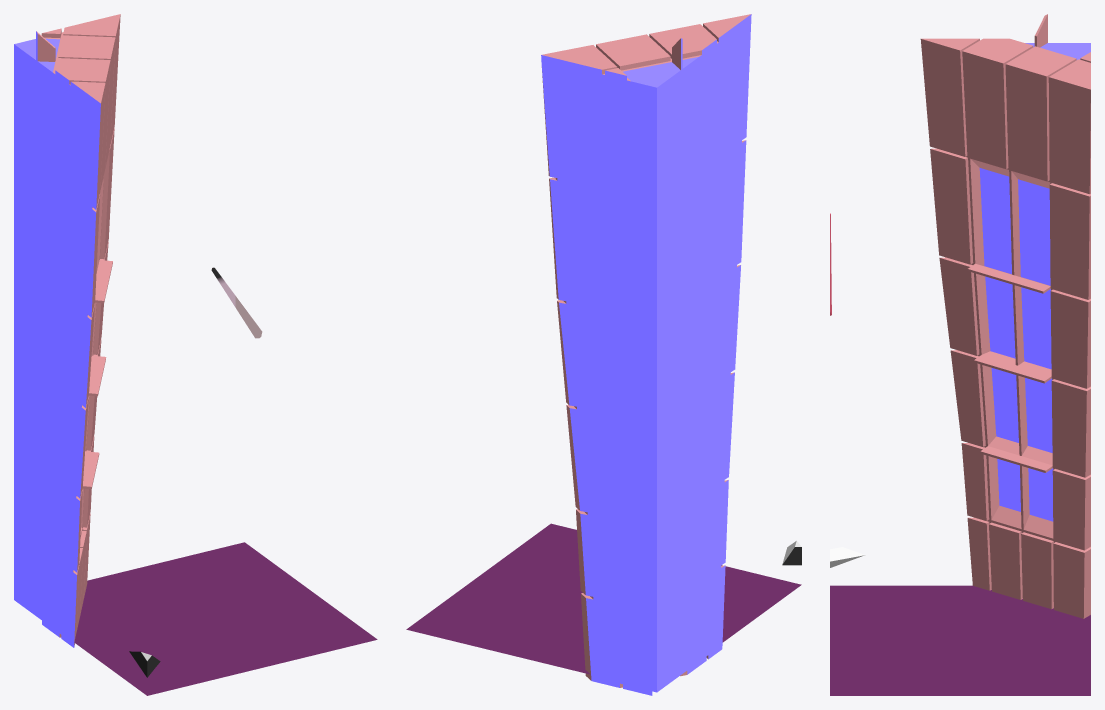
Rendered from tile_22_0_10.gltf.
3 views of the same model, side by side, from view 1: azimuth 30°, elevation 25°; view 2: azimuth 150°, elevation 25°; view 3: azimuth 270°, elevation 25° (orthographic). The views are drawn at different scales.
Parts seen in each view (by area): view 1: Cube.002, Plane, Cylinder.094; view 2: Cube.002, Plane; view 3: Cube.002, Plane, track.275.
Part boxes in pixels (left/top/right/bottom): Cube.002: left=14, top=14, right=120, bottom=647; Plane: left=74, top=542, right=377, bottom=695; Cylinder.094: left=211, top=267, right=262, bottom=338; Cube.002: left=541, top=14, right=751, bottom=695; Plane: left=406, top=523, right=801, bottom=674; Cube.002: left=920, top=14, right=1090, bottom=618; Plane: left=830, top=585, right=1090, bottom=695; track.275: left=830, top=547, right=865, bottom=567.
Size of the model in its own units: 8 by 19.54 by 8.
Materials: 2 (1 with a texture image).
